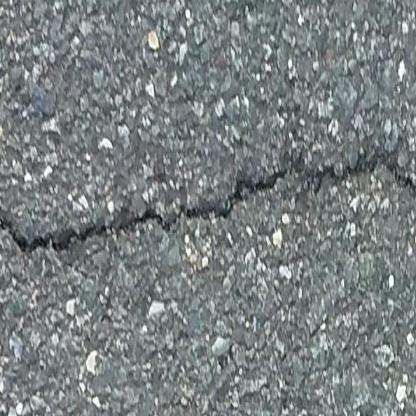Cracks: (0, 156, 416, 266)
